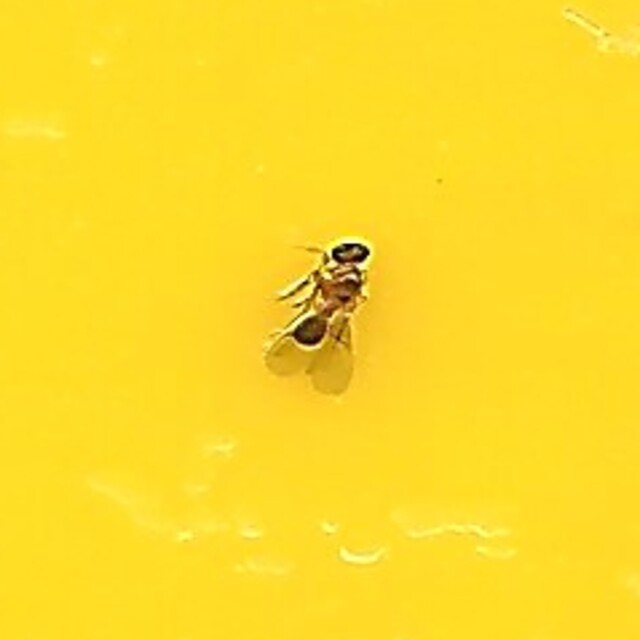Hymenoptera: (268, 239, 372, 401)
